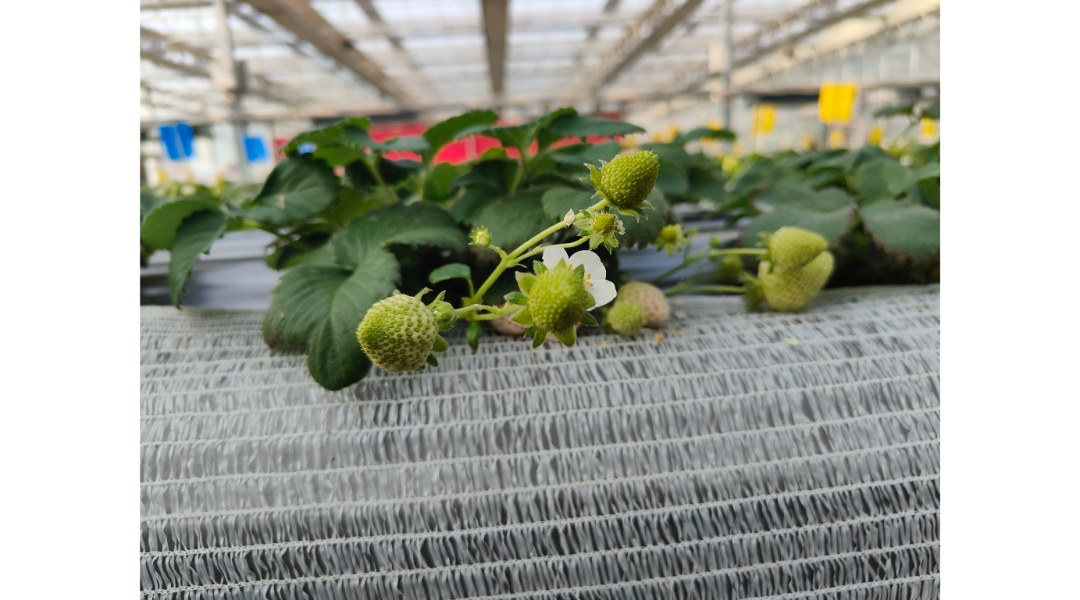berry: (744, 216, 850, 312), (356, 277, 441, 373), (585, 136, 665, 223), (515, 266, 603, 345), (617, 271, 678, 342), (606, 308, 641, 339)
flower: (541, 246, 618, 308)
strain: (511, 204, 594, 239), (478, 267, 503, 303)
